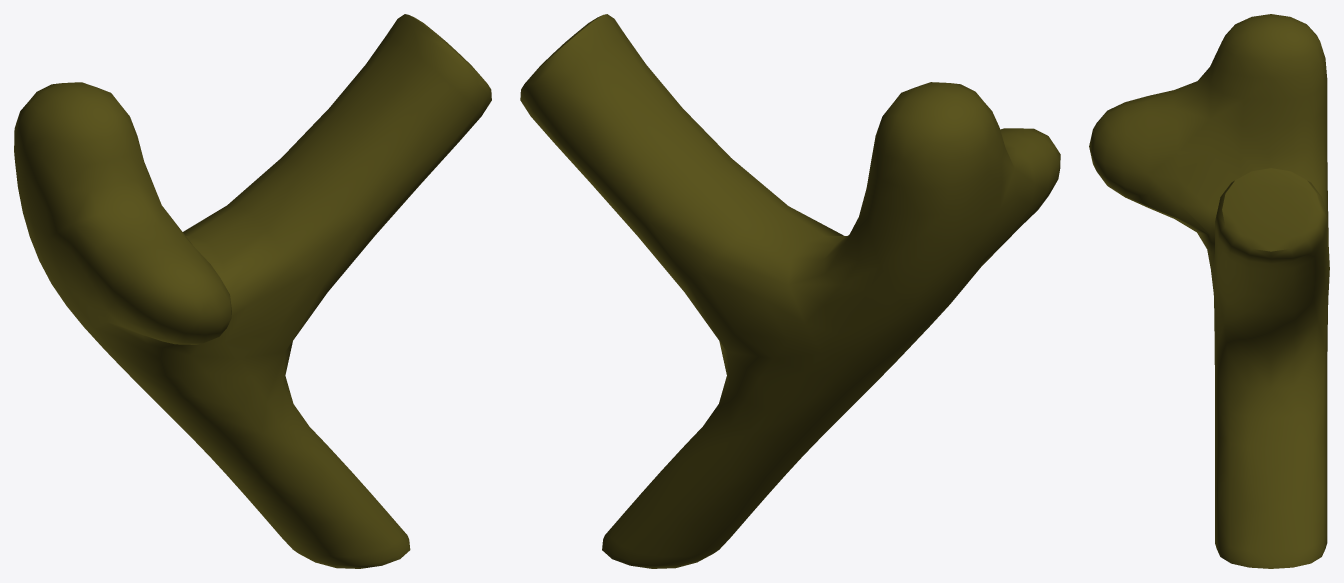
Rendered from Dead Tree 10.fbx.
3 renders of one model, left to right at view 1: azimuth 30°, elevation 25°; view 2: azimuth 150°, elevation 25°; view 3: azimuth 270°, elevation 25°, orthographic. The views are drawn at different scales.
Visible parts, largest first — view 1: Cube; view 2: Cube; view 3: Cube.
Part boxes in pixels (box(x1,y1,x2,y2)): Cube: box(14, 14, 491, 568); Cube: box(520, 14, 1060, 568); Cube: box(1089, 14, 1329, 568).
Bounding box in the file's own units: 183 × 201 × 104.
